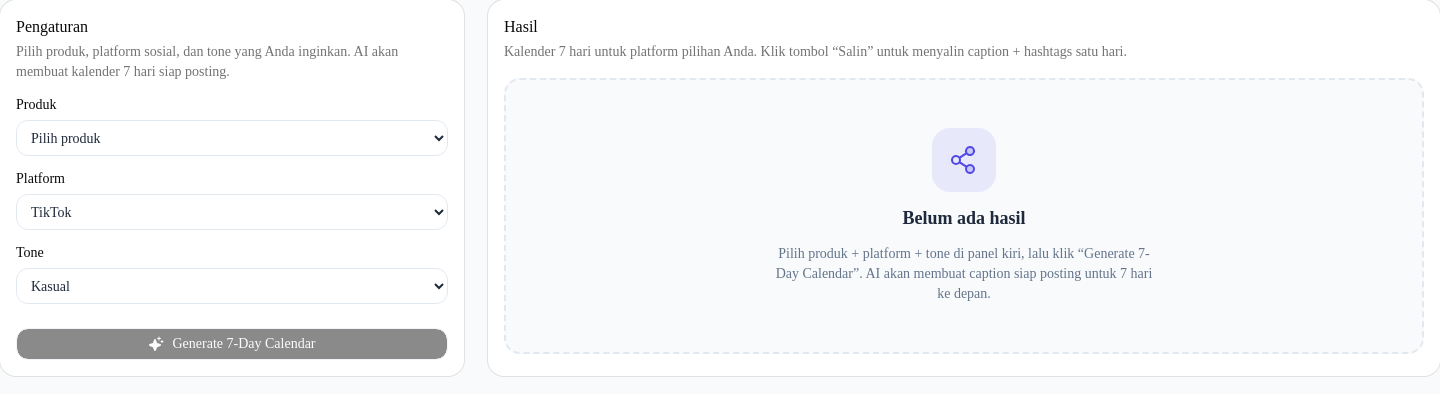
<SocialGenerator /> › shows error message + retry button in the result panel when generateSocialCalendar returns an error
Select "Sample Product A" in the dropdown with test id "social-product" at [232, 138], box [16,120,448,156]
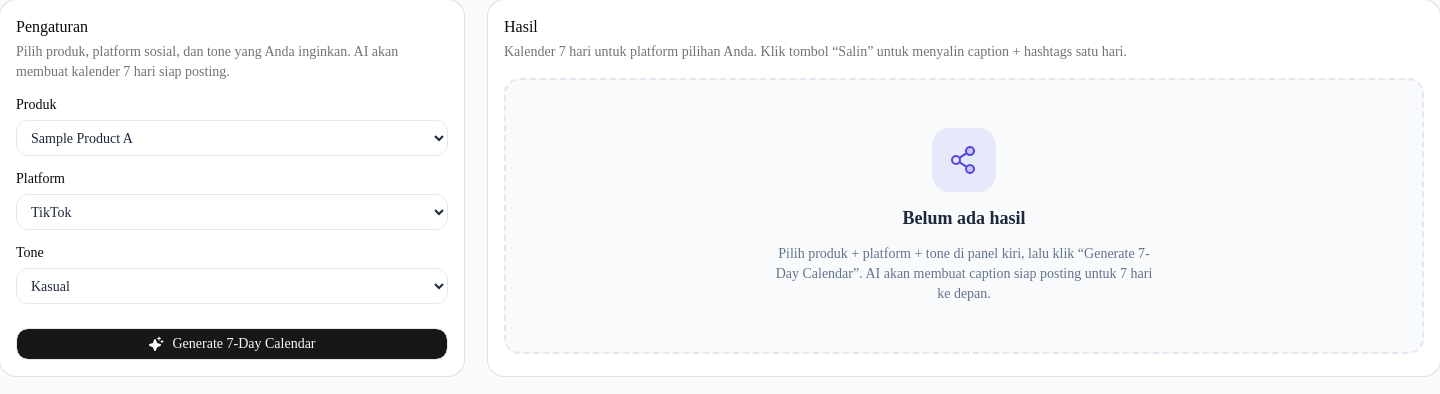
Click the button "Generate 7-Day Calendar".
click(232, 344)  # box [16,328,448,360]
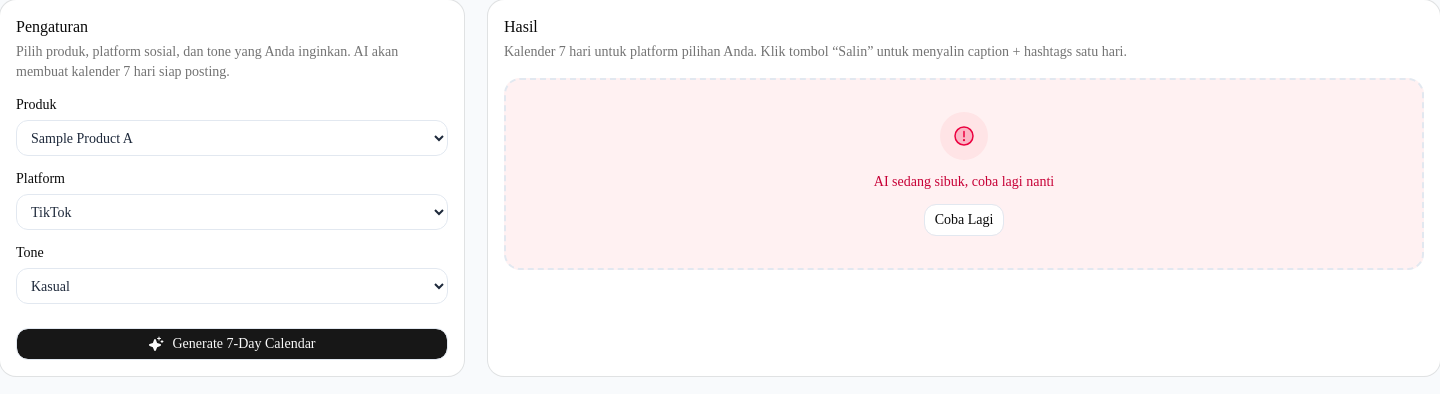
Expected: the element with test id "social-error" is shown, [504,78,1424,270]
Expected: the text "AI sedang sibuk, coba lagi nanti" is shown, [874,172,1054,192]
